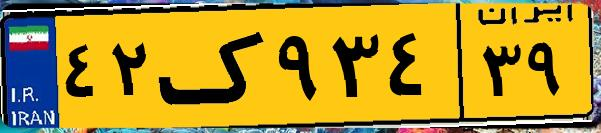2: (110, 28, 158, 98)
3: (330, 28, 385, 110), (475, 38, 525, 113)
4: (385, 28, 445, 110), (57, 26, 110, 100)
9: (270, 28, 330, 110), (525, 38, 570, 115)
ک: (158, 12, 270, 120)
